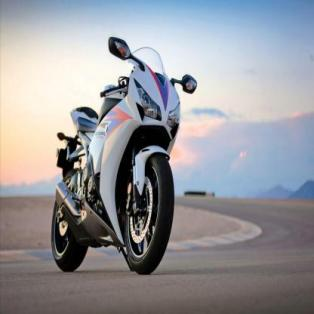Motocicleta: (42, 33, 200, 278)
